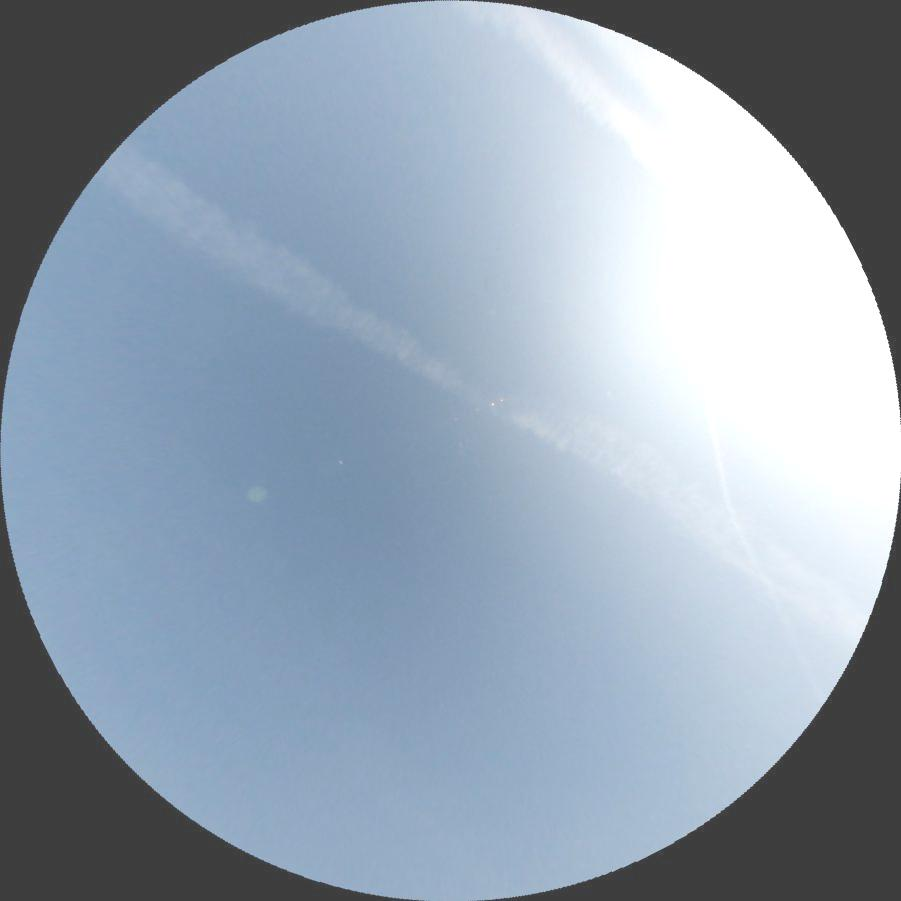contrail old: (684, 372, 824, 716)
contrail veryold: (88, 130, 888, 642)
sun: (696, 202, 893, 400)
